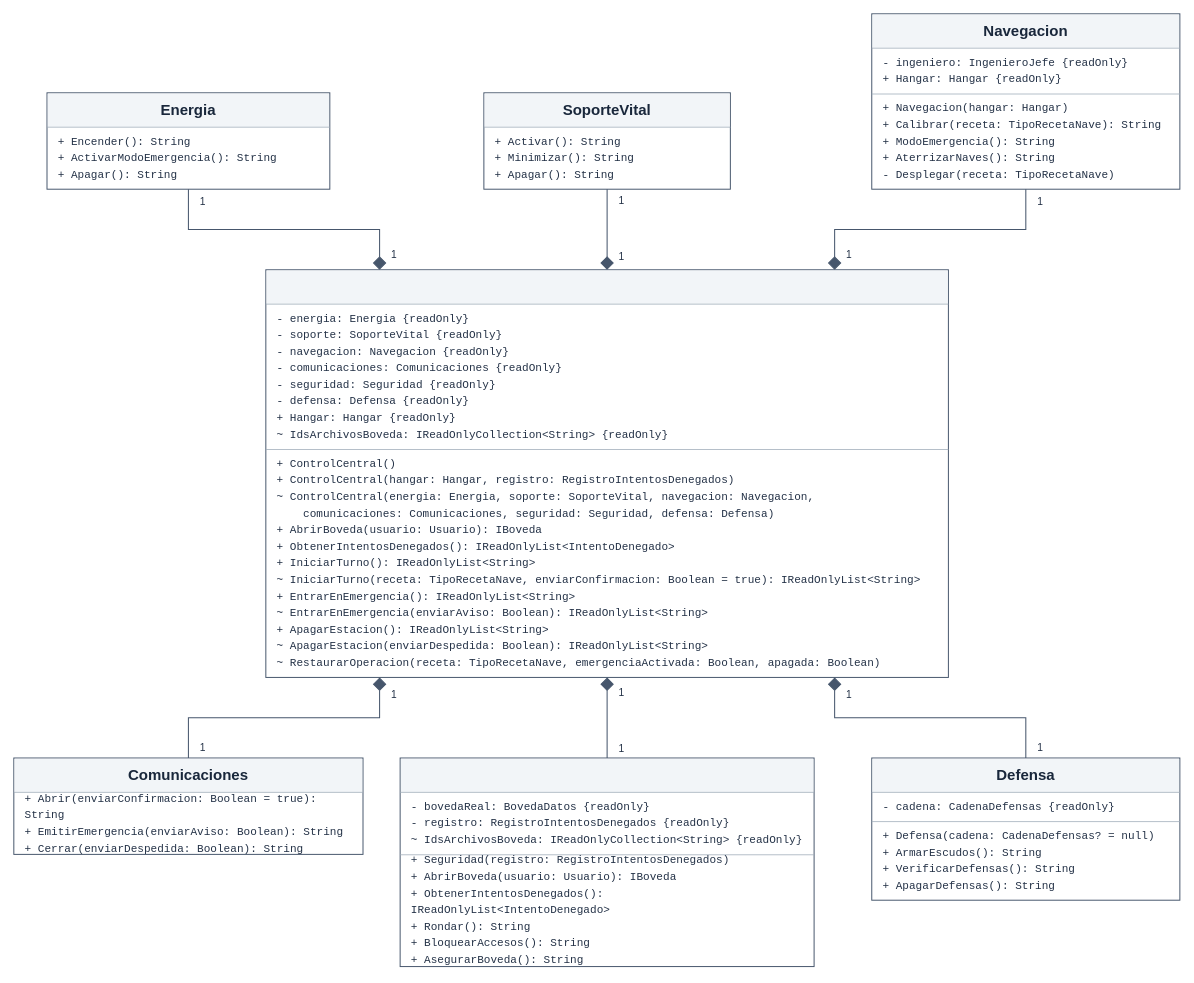
The diagram is 1194 pixels wide and 983 high, and some of its shapes have lost their labels. The box of each missing label's shape, as (x1, y1, x2, y2) in pixels:
ControlCentral: (266, 270, 947, 303)
Seguridad: (401, 758, 813, 792)
